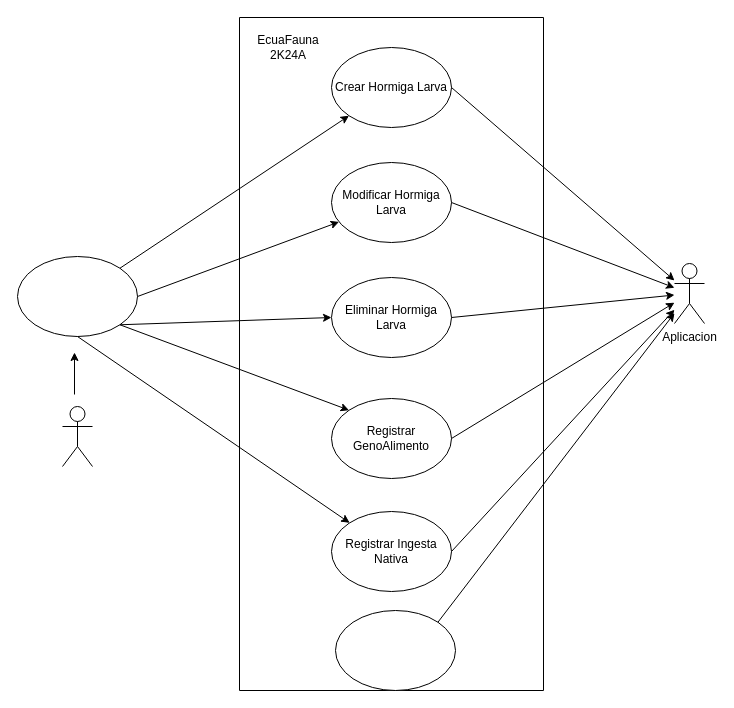
Image size: 734x708. Some labels were removed from this diagram. Here are the shapes that lost their labels. From the top down, the centre of each, then its label:
(77,296): Hormiguero Virtual
(77,436): Entomologo
(395,650): Simular Evolucion
